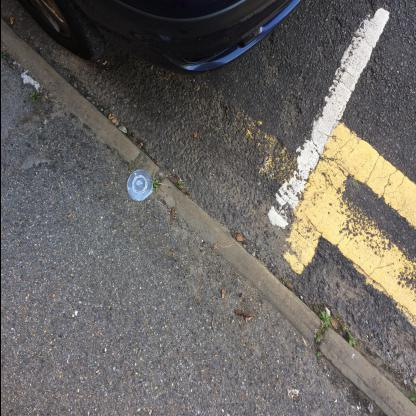plastik: (126, 170, 153, 203)
